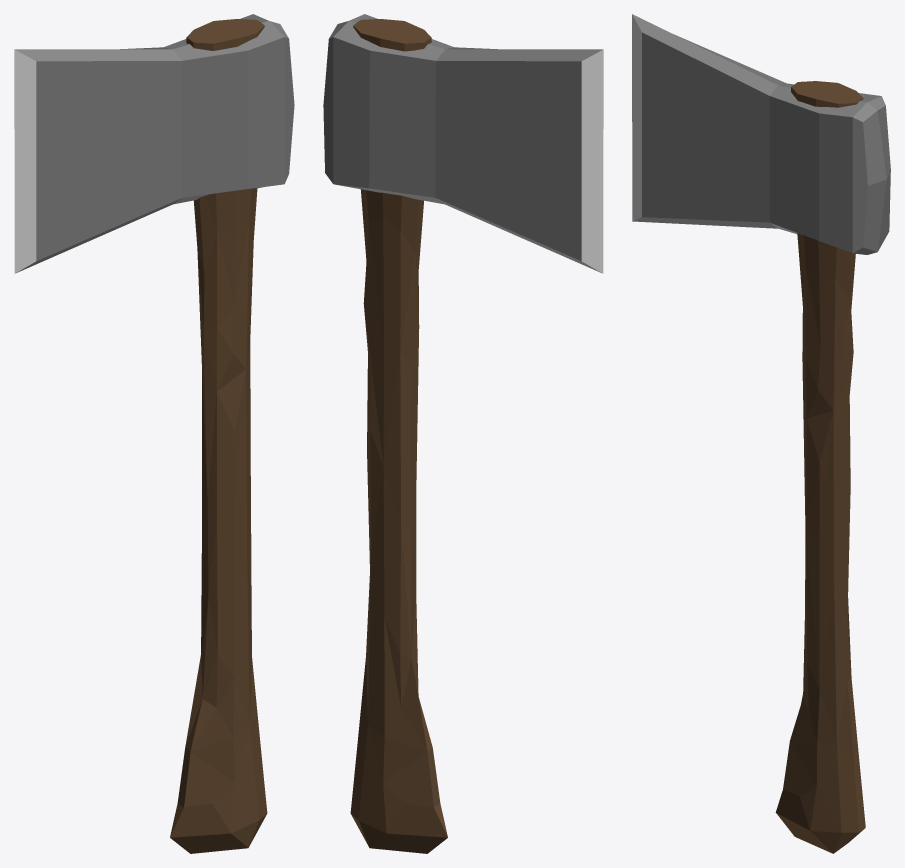
The model's file is machado.glb.
The picture shows the model from 3 angles, left to right: view 1: azimuth 30°, elevation 25°; view 2: azimuth 150°, elevation 25°; view 3: azimuth 330°, elevation 25°; orthographic projection. The views are drawn at different scales.
Parts seen in each view (by area): view 1: Handle; view 2: Handle; view 3: Handle.
Boxes of the visible parts, left/top/right/bottom form: Handle: left=14, top=14, right=294, bottom=853; Handle: left=323, top=14, right=603, bottom=853; Handle: left=632, top=14, right=890, bottom=853.
Bounding box in the file's own units: 2.41 × 7.08 × 0.4759.
